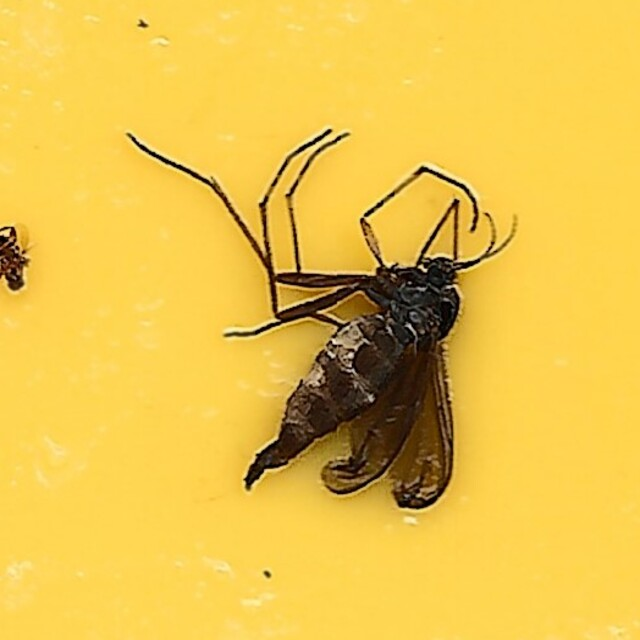Nematocera: (122, 127, 518, 513)
